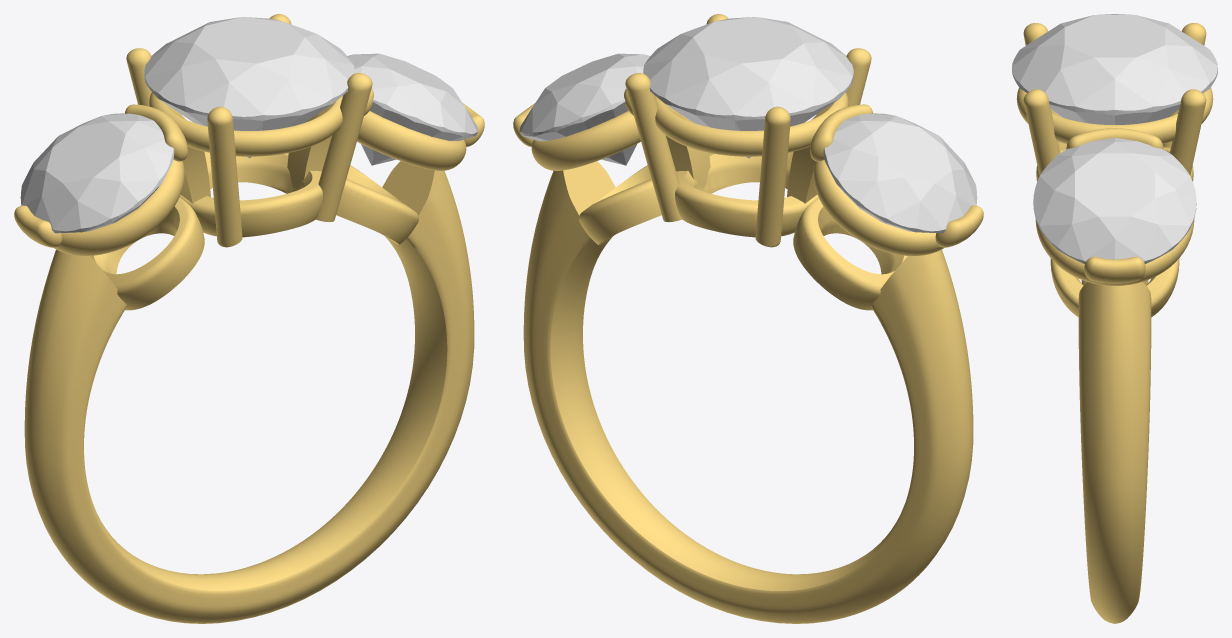
File: PaulaSeng3stone_blender.glb
3 renders of one model, left to right at view 1: azimuth 30°, elevation 25°; view 2: azimuth 150°, elevation 25°; view 3: azimuth 270°, elevation 25°, orthographic. The views are drawn at different scales.
Visible parts, largest first — view 1: Paula YG for 3d model, Paula dia for 3d model.002, Paula dia for 3d model.001, Paula dia for 3d model; view 2: Paula YG for 3d model, Paula dia for 3d model.002, Paula dia for 3d model.001, Paula dia for 3d model; view 3: Paula YG for 3d model, Paula dia for 3d model.002, Paula dia for 3d model.
Boxes of the visible parts, x1,y1,x2,y2 form: Paula YG for 3d model: [14, 14, 484, 623]; Paula dia for 3d model.002: [144, 17, 354, 158]; Paula dia for 3d model.001: [20, 113, 174, 233]; Paula dia for 3d model: [347, 53, 478, 165]; Paula YG for 3d model: [513, 14, 983, 623]; Paula dia for 3d model.002: [643, 17, 853, 158]; Paula dia for 3d model.001: [823, 113, 977, 233]; Paula dia for 3d model: [519, 53, 650, 165]; Paula YG for 3d model: [1016, 23, 1213, 623]; Paula dia for 3d model.002: [1012, 14, 1217, 124]; Paula dia for 3d model: [1033, 138, 1196, 263].
Bounding box in the file's own units: 20.31 × 24.79 × 8.2.
